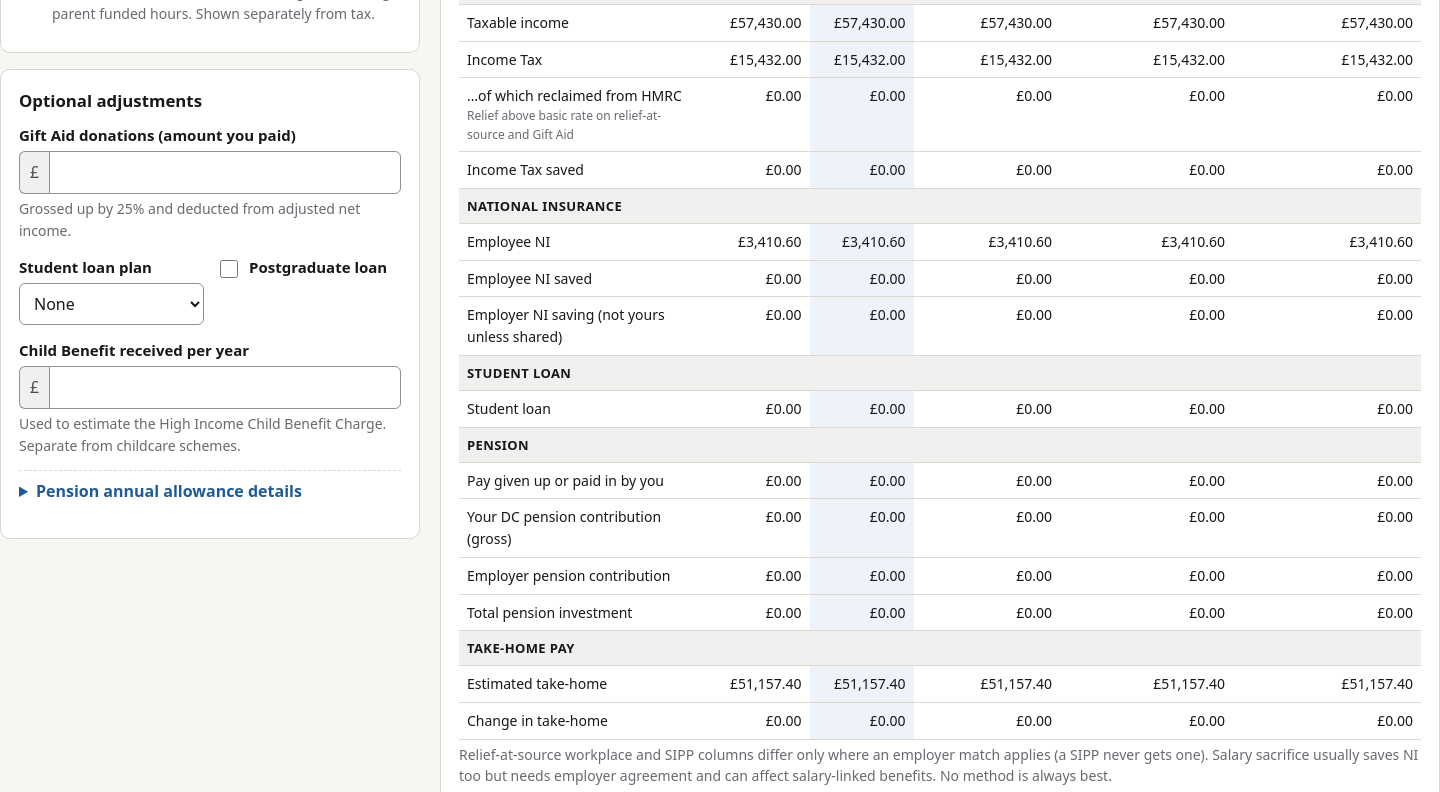
Scenario: calculator UI › audit F5: partner questions appear for the Child Benefit charge without a childcare assessment
The width and height of the screenshot is (1440, 792).
(page scrolled)
Check: the text "Do you have a partner who lives with you?" is not shown
Step 1. Type "2000" into the field labelled "Child Benefit received per year" → (225, 388), box [49,366,401,409]
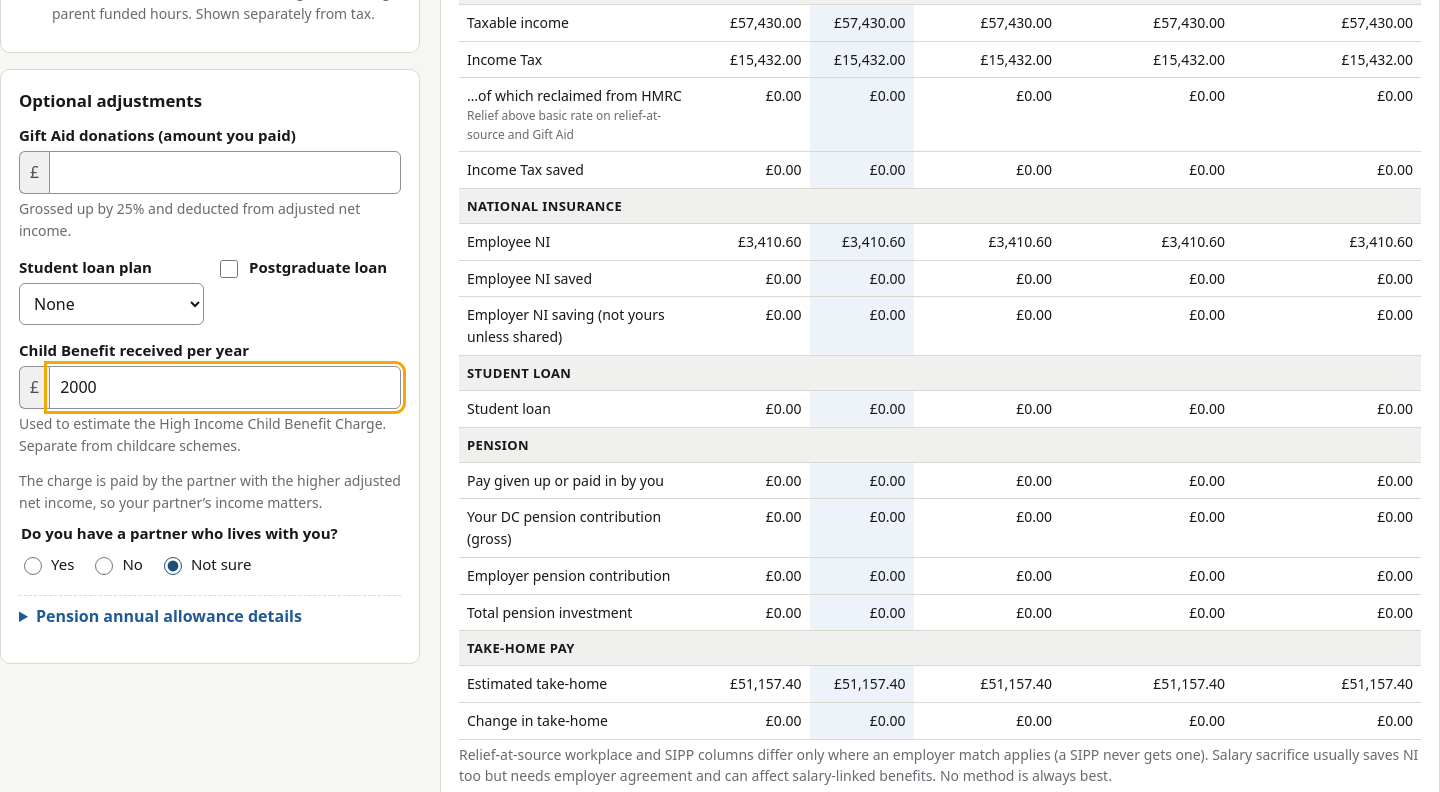
Check: the text "Do you have a partner who lives with you?" is shown, box [19,522,340,545]
